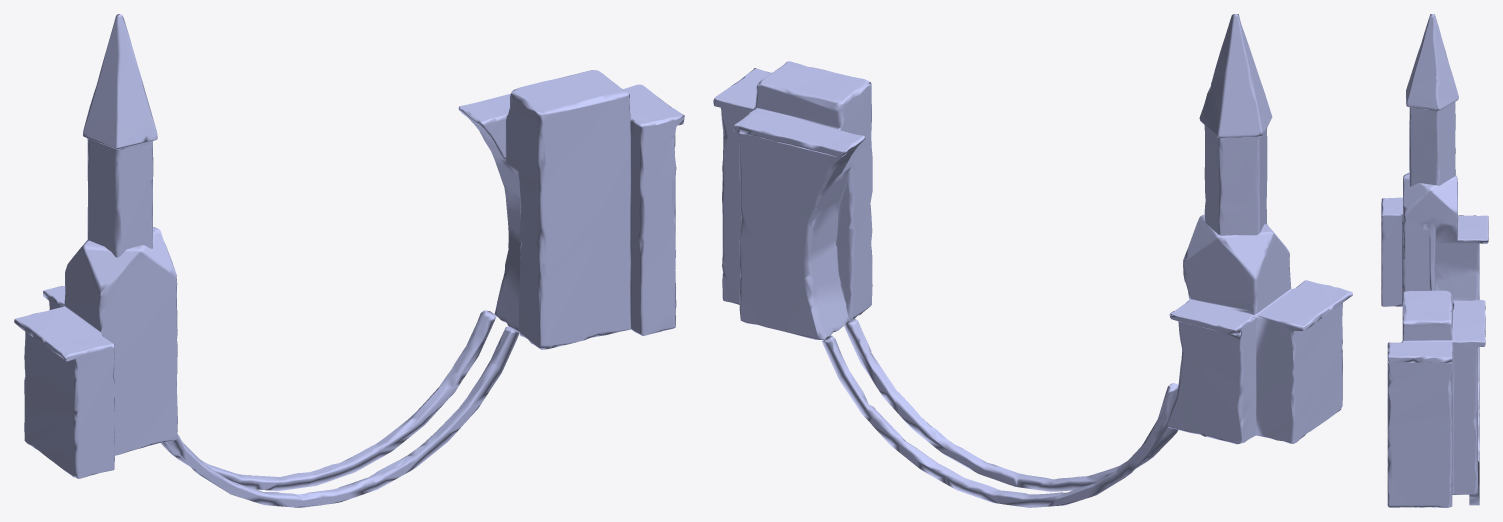
The model's file is upper_details_l_LOD3.fbx.
The picture shows the model from 3 angles, left to right: view 1: azimuth 30°, elevation 25°; view 2: azimuth 150°, elevation 25°; view 3: azimuth 270°, elevation 25°; orthographic projection. The views are drawn at different scales.
Parts seen in each view (by area): view 1: Cylinder_002_LOD3; view 2: Cylinder_002_LOD3; view 3: Cylinder_002_LOD3.
Part boxes in pixels (box(x1,y1,x2,y2)): Cylinder_002_LOD3: box(14, 14, 684, 507); Cylinder_002_LOD3: box(713, 14, 1352, 507); Cylinder_002_LOD3: box(1381, 14, 1488, 507).
Size of the model in its own units: 811 by 675 by 166.
